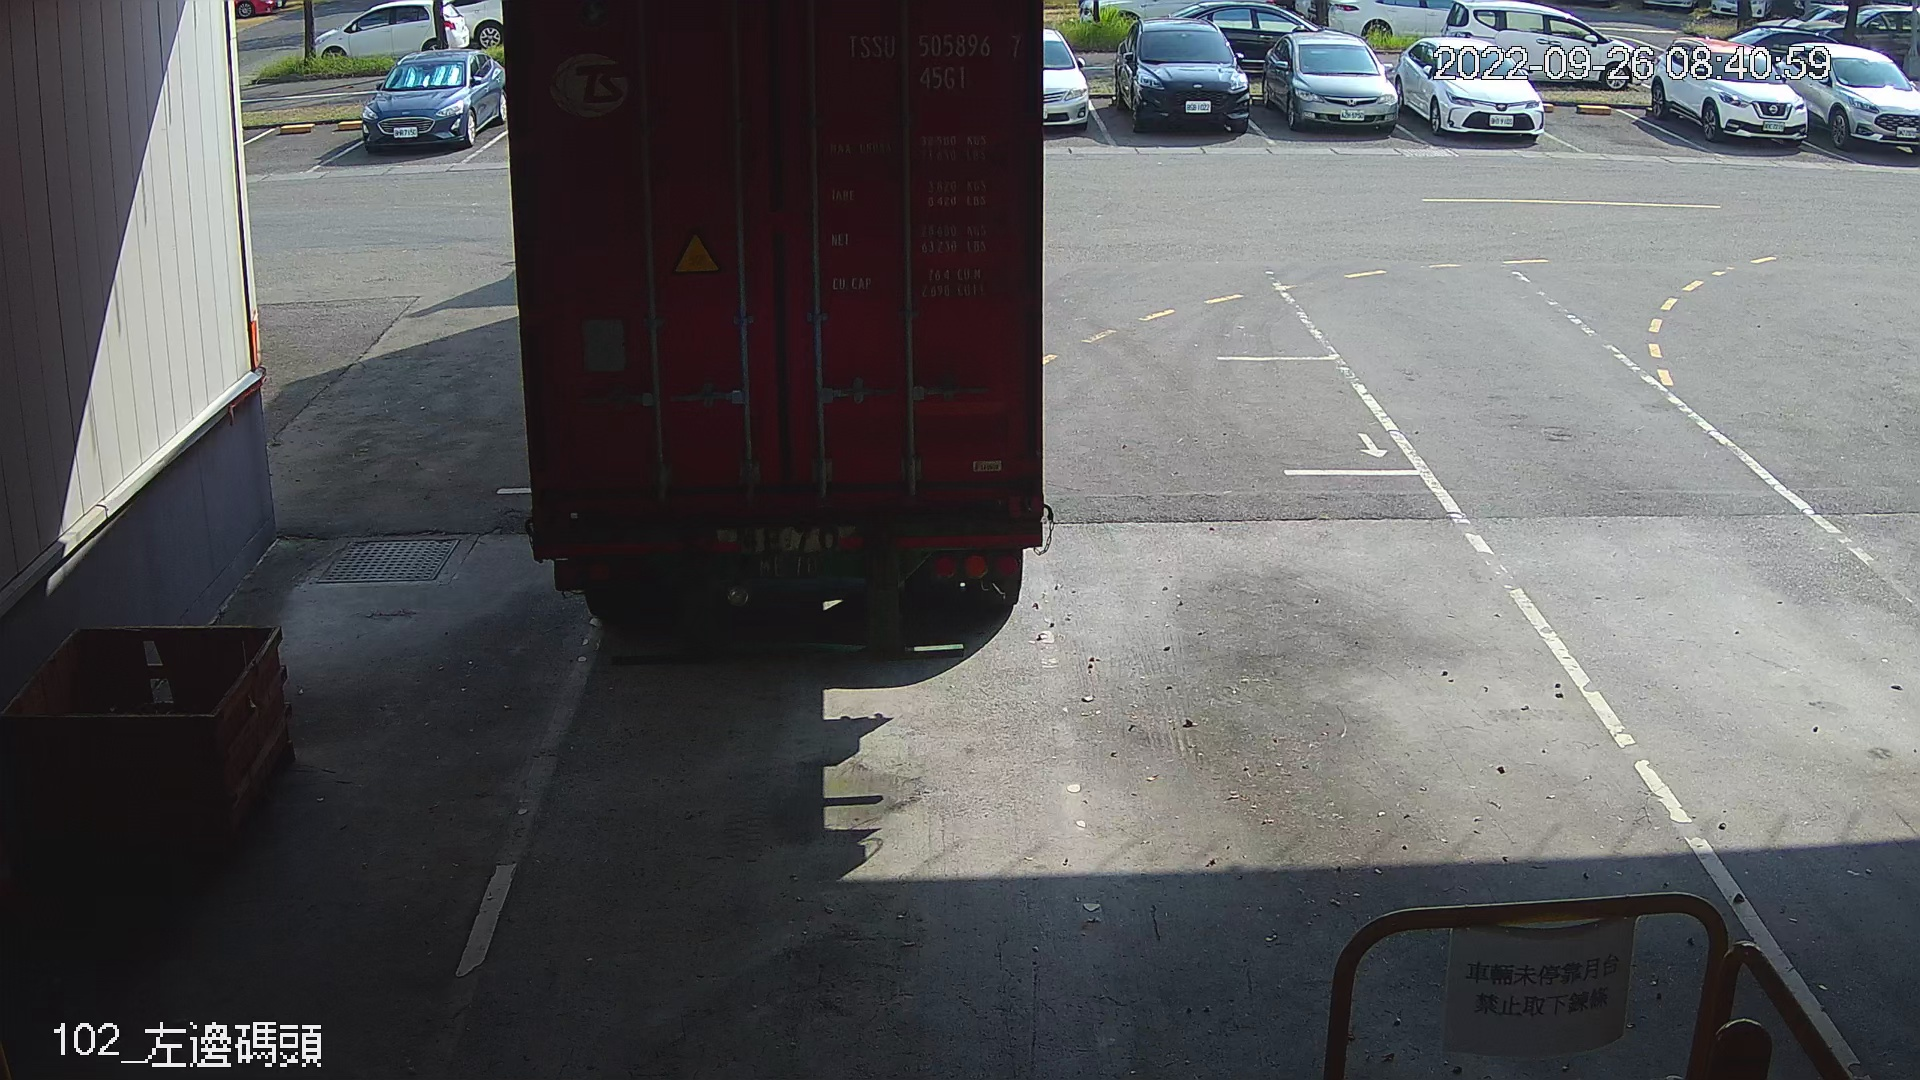container: (833, 22, 1031, 99)
